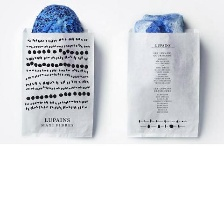snack: (15, 0, 100, 142), (121, 5, 205, 144)
